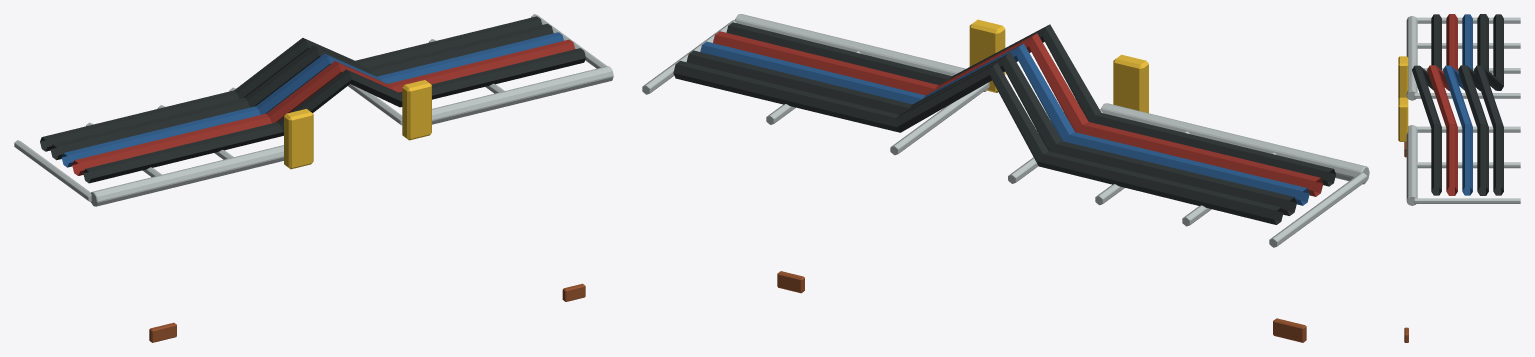
File: runtime.glb
The picture shows the model from 3 angles, left to right: view 1: azimuth 30°, elevation 25°; view 2: azimuth 150°, elevation 25°; view 3: azimuth 270°, elevation 25°; orthographic projection. The views are drawn at different scales.
Visible parts, largest first — view 1: reactor-cable-tray-v09_nocol; view 2: reactor-cable-tray-v09_nocol; view 3: reactor-cable-tray-v09_nocol.
Boxes of the visible parts, left/top/right/bottom form: reactor-cable-tray-v09_nocol: left=14, top=14, right=613, bottom=342; reactor-cable-tray-v09_nocol: left=642, top=14, right=1369, bottom=342; reactor-cable-tray-v09_nocol: left=1398, top=14, right=1520, bottom=342.
Bounding box in the file's own units: 3.36 × 1.69 × 0.9516.
